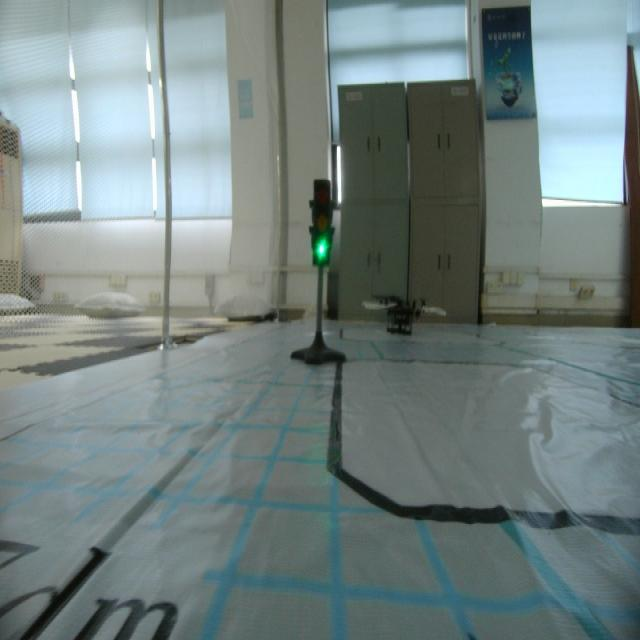green: (305, 175, 345, 273)
